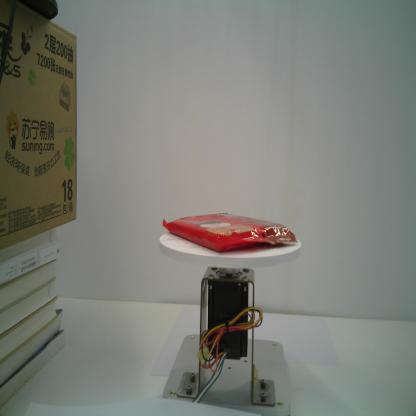Dessert: (162, 210, 299, 252)
